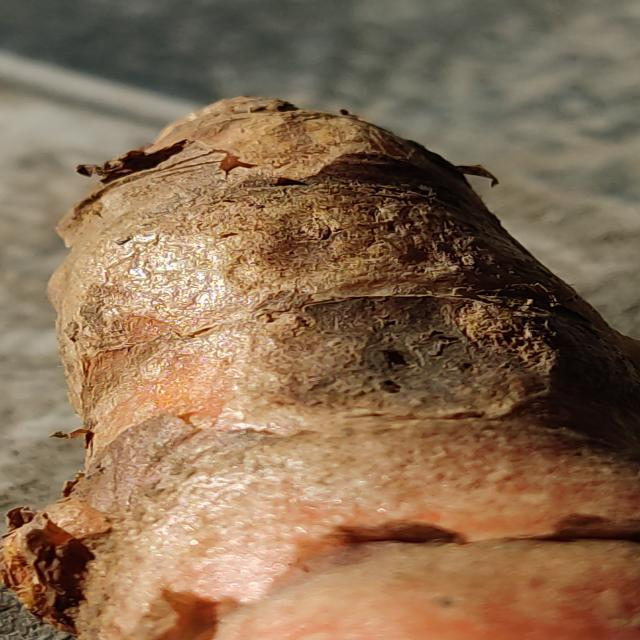ginger: (63, 99, 640, 640)
